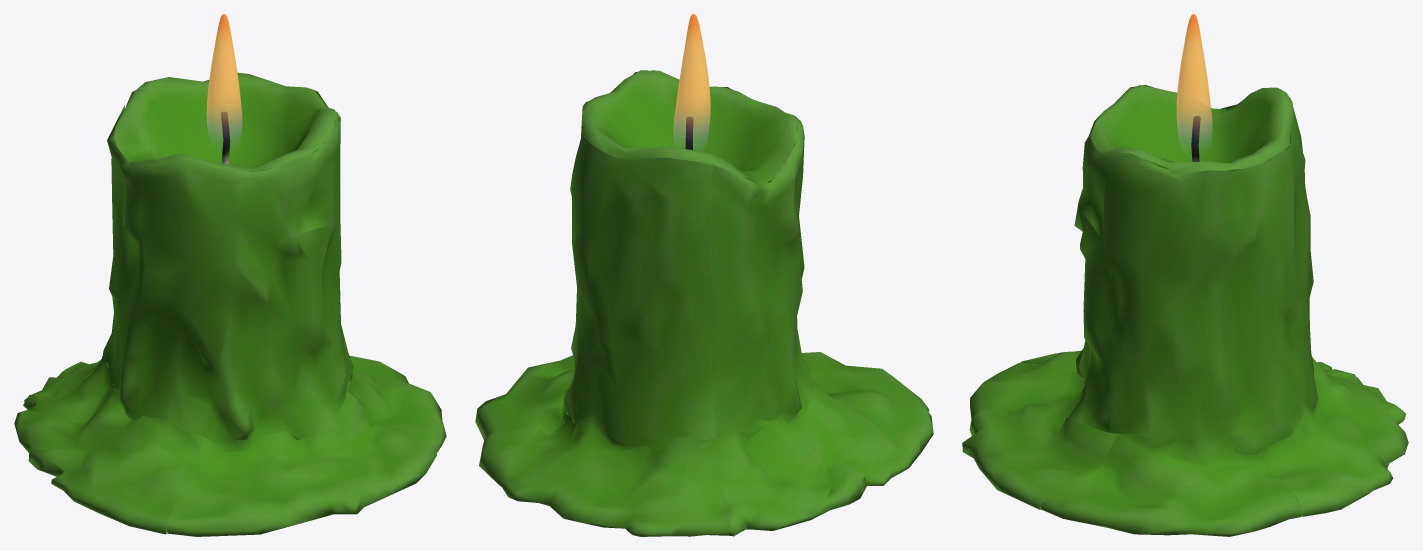
The model's file is EcclesiasticalShort.glb.
3 renders of one model, left to right at view 1: azimuth 30°, elevation 25°; view 2: azimuth 150°, elevation 25°; view 3: azimuth 270°, elevation 25°, orthographic. The views are drawn at different scales.
Parts seen in each view (by area): view 1: XBase, Flame; view 2: XBase, Flame; view 3: XBase, Flame.
Part boxes in pixels (left/top/right/bottom): XBase: left=14, top=72, right=446, bottom=536; Flame: left=206, top=14, right=242, bottom=141; XBase: left=475, top=70, right=933, bottom=536; Flame: left=673, top=14, right=710, bottom=146; XBase: left=962, top=84, right=1408, bottom=536; Flame: left=1176, top=14, right=1212, bottom=146.
Bounding box in the file's own units: 1.54 × 1.67 × 1.57.
Materials: 2 (2 with a texture image).
